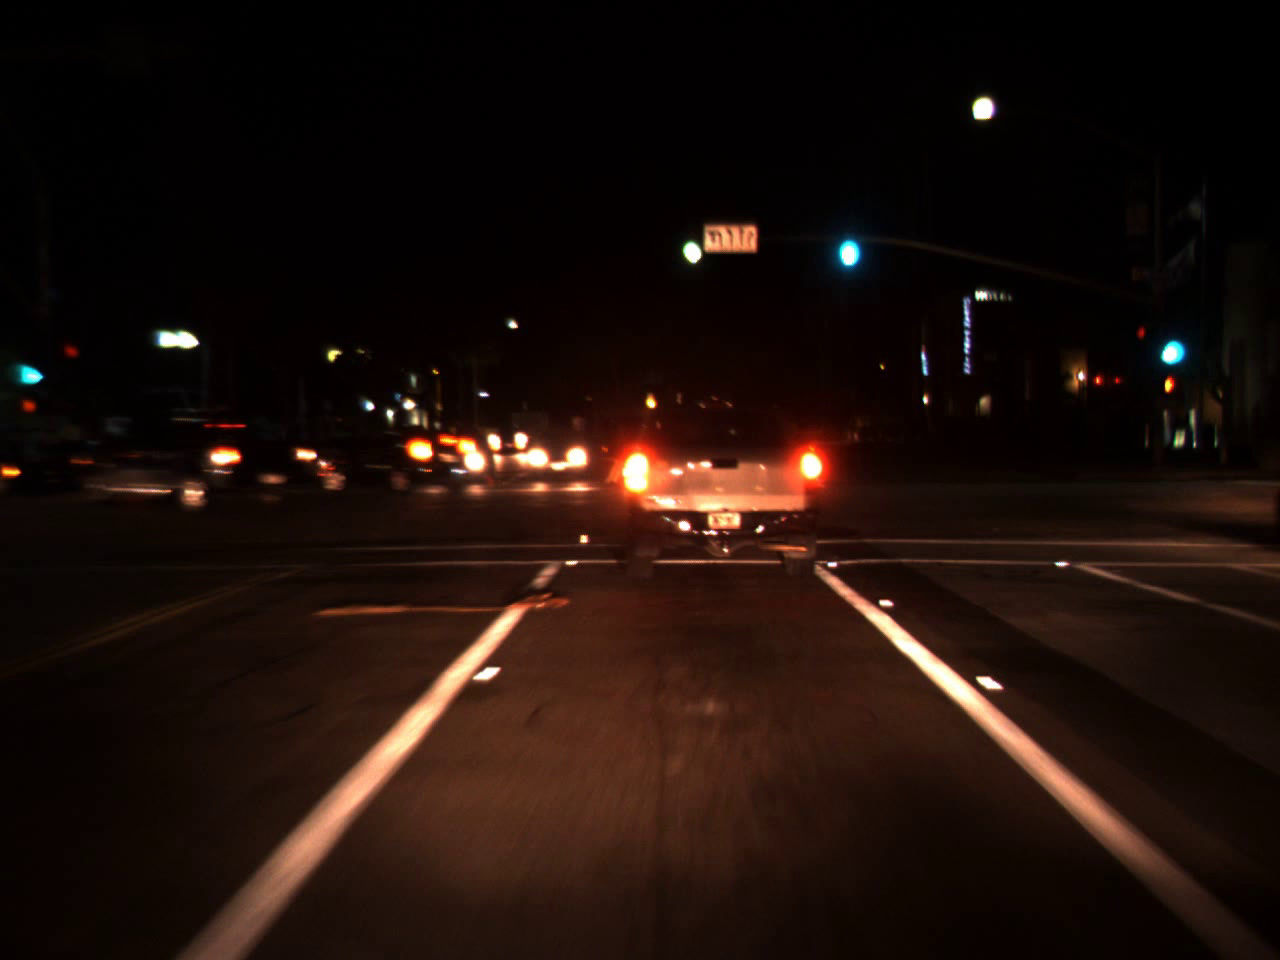go: (830, 207, 864, 276), (1153, 315, 1185, 372), (677, 215, 705, 272), (13, 343, 45, 391)
